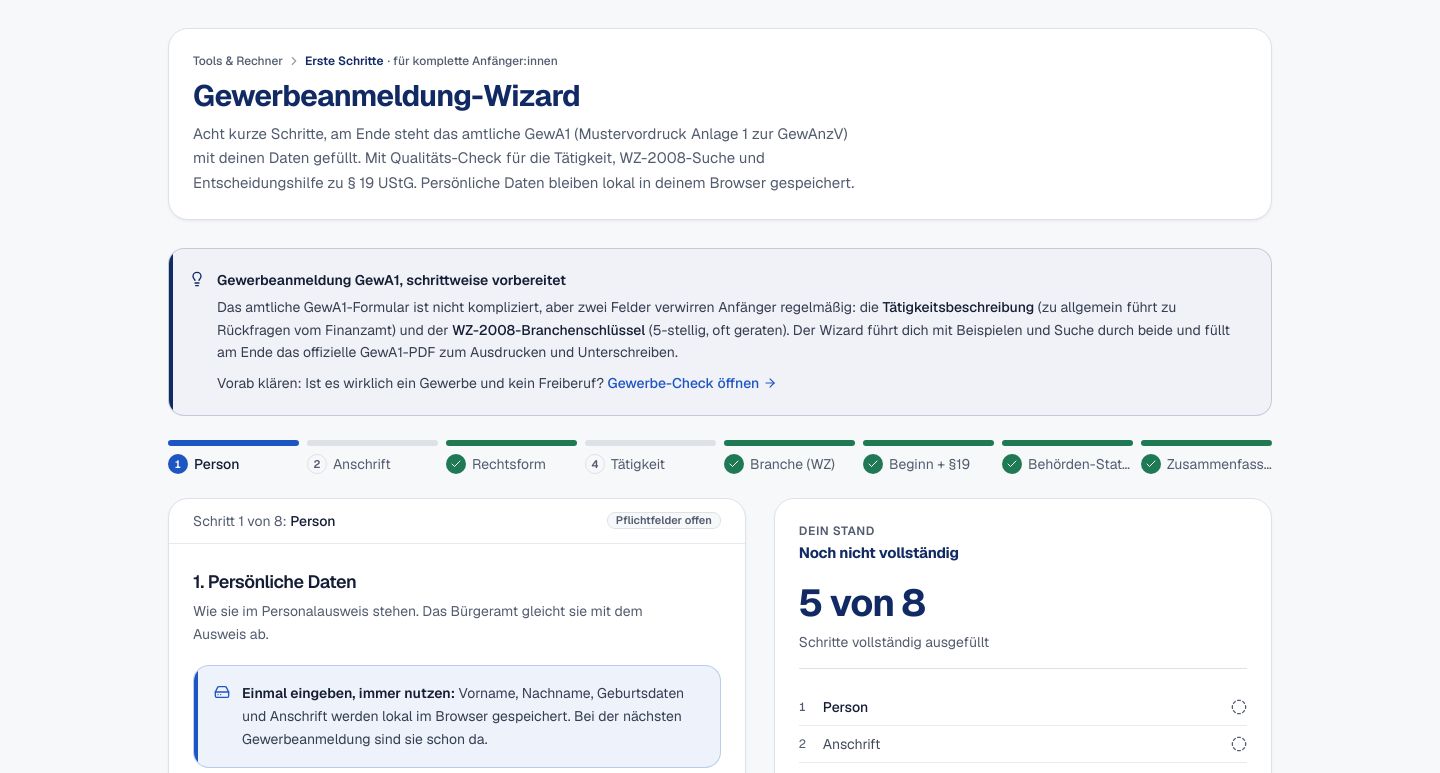
Scenario: GewerbeanmeldungWizard — Steps › Step 3: Rechtsform-Dropdown wechselbar
Later steps or results of the test are not shown.
Navigation zu Step 3
Step 1. Click the button "Rechtsform" → {"x": 512, "y": 457}, box [446, 440, 577, 474]
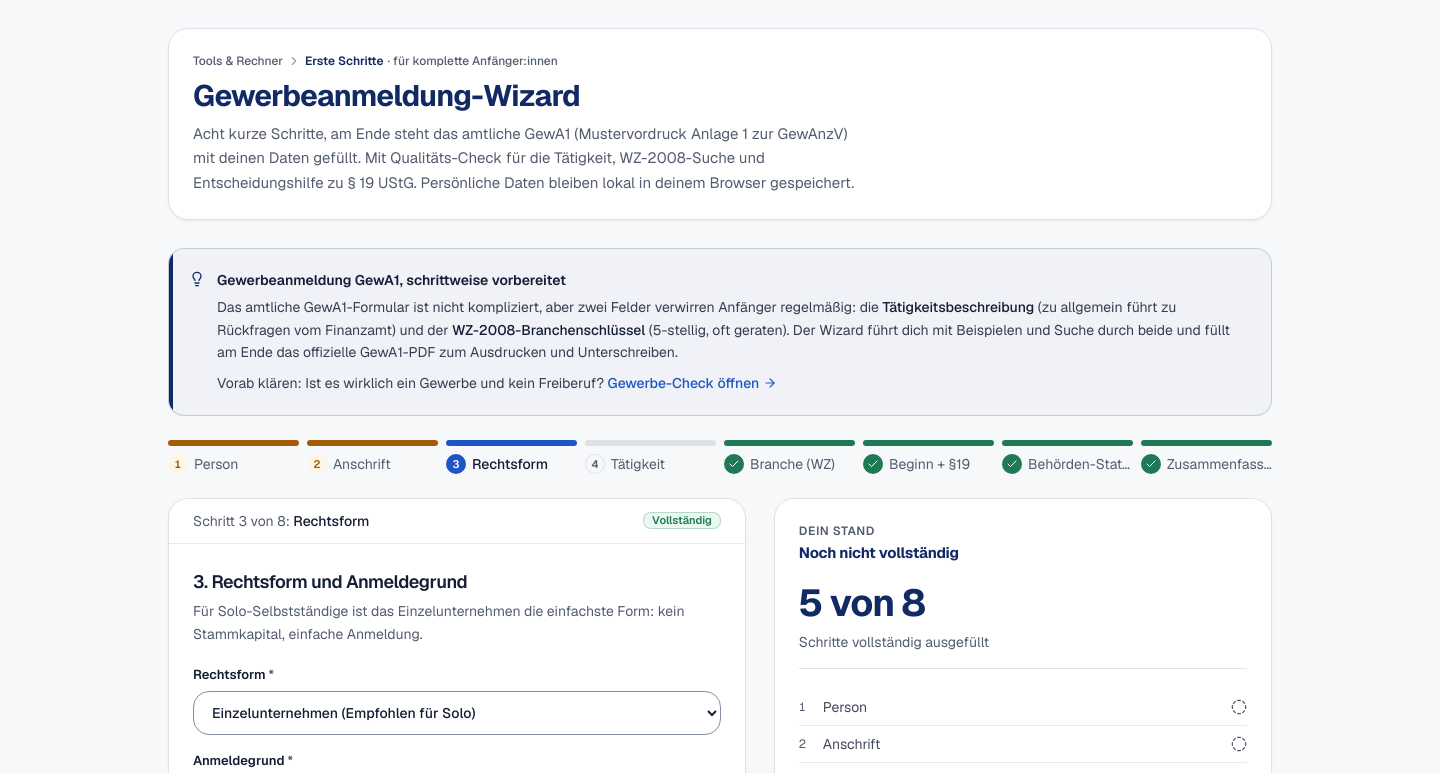
Result: the dropdown labelled "Rechtsform *" is shown at [193, 691, 721, 735]
